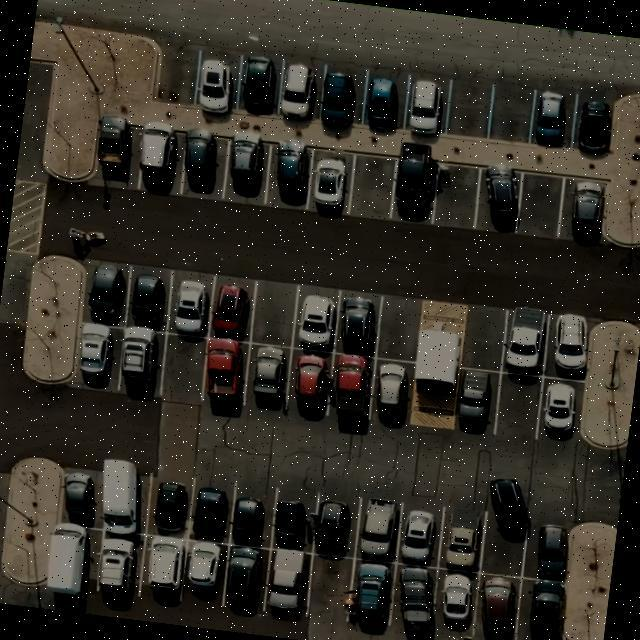space-empty: (477, 481, 532, 576), (302, 552, 354, 623), (158, 332, 208, 404), (346, 150, 397, 220), (492, 371, 543, 440), (372, 294, 423, 362), (250, 279, 299, 348), (152, 37, 202, 104), (458, 304, 507, 372), (514, 172, 564, 238), (445, 75, 494, 142), (486, 80, 535, 144), (438, 160, 480, 230)
space-occupied: (87, 460, 150, 538), (84, 529, 146, 606), (280, 346, 338, 421), (361, 355, 419, 429), (140, 468, 196, 542), (494, 306, 552, 377), (388, 144, 440, 223), (257, 548, 314, 620), (132, 117, 184, 194), (44, 522, 98, 596), (198, 336, 252, 409), (434, 499, 488, 572), (340, 558, 396, 627), (134, 532, 186, 606), (178, 125, 230, 198), (271, 54, 325, 124), (70, 320, 124, 390), (115, 326, 167, 398), (540, 308, 593, 378), (427, 566, 480, 636), (314, 62, 366, 133), (302, 146, 355, 215), (532, 374, 582, 447), (268, 484, 322, 551), (514, 575, 569, 640), (400, 70, 451, 140), (204, 275, 257, 342), (234, 49, 284, 120), (186, 473, 236, 544), (178, 538, 230, 606), (263, 142, 316, 208), (331, 290, 382, 358), (352, 494, 403, 562), (190, 46, 240, 115), (471, 571, 521, 640), (388, 562, 437, 632), (219, 544, 268, 614), (357, 67, 408, 134), (221, 135, 272, 202), (558, 176, 608, 244), (306, 492, 359, 556), (228, 479, 277, 548), (163, 272, 214, 338), (82, 260, 133, 326), (244, 341, 292, 411), (90, 116, 138, 186), (473, 166, 524, 231), (327, 352, 373, 424), (450, 366, 500, 432), (56, 460, 106, 526), (293, 282, 340, 352), (393, 502, 442, 568), (522, 518, 574, 580), (526, 85, 576, 149), (125, 265, 173, 330), (570, 91, 617, 155)
